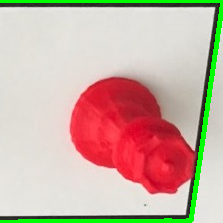Red Queen: (65, 71, 198, 200)
